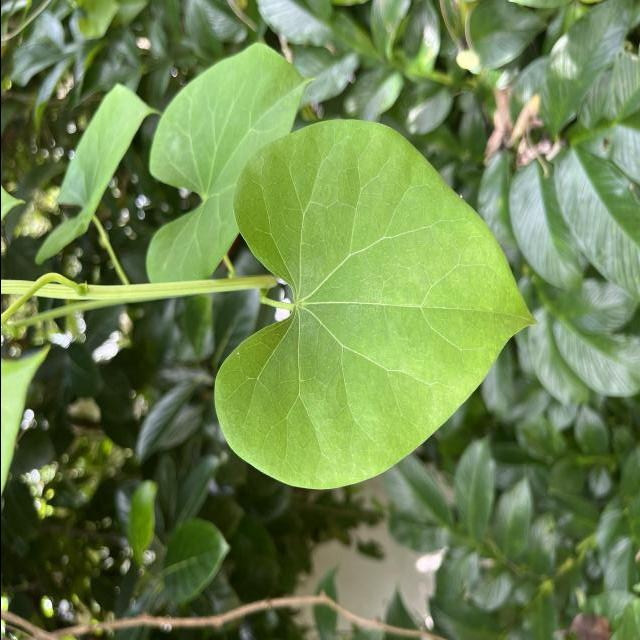Tinospora cordifolia: (206, 114, 542, 498)
